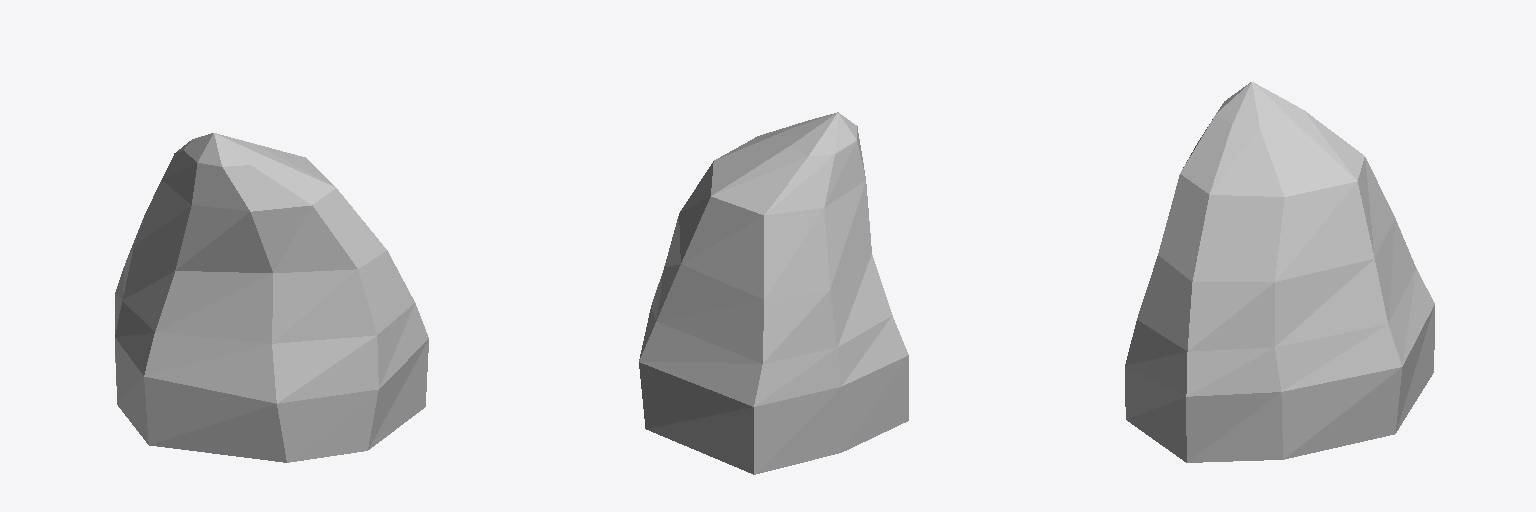
Rendered from Big_Boulder1.obj.
3 views of the same model, side by side, from view 1: azimuth 30°, elevation 25°; view 2: azimuth 150°, elevation 25°; view 3: azimuth 270°, elevation 25° (orthographic).
Parts seen in each view (by area): view 1: WOH_Asset_Big_Boulder1_Big_Boulder1; view 2: WOH_Asset_Big_Boulder1_Big_Boulder1; view 3: WOH_Asset_Big_Boulder1_Big_Boulder1.
Part boxes in pixels (bbox=[...]): WOH_Asset_Big_Boulder1_Big_Boulder1: bbox=[115, 133, 428, 462]; WOH_Asset_Big_Boulder1_Big_Boulder1: bbox=[639, 112, 908, 474]; WOH_Asset_Big_Boulder1_Big_Boulder1: bbox=[1125, 82, 1434, 462].
Size of the model in its own units: 11.02 by 12.27 by 11.71.